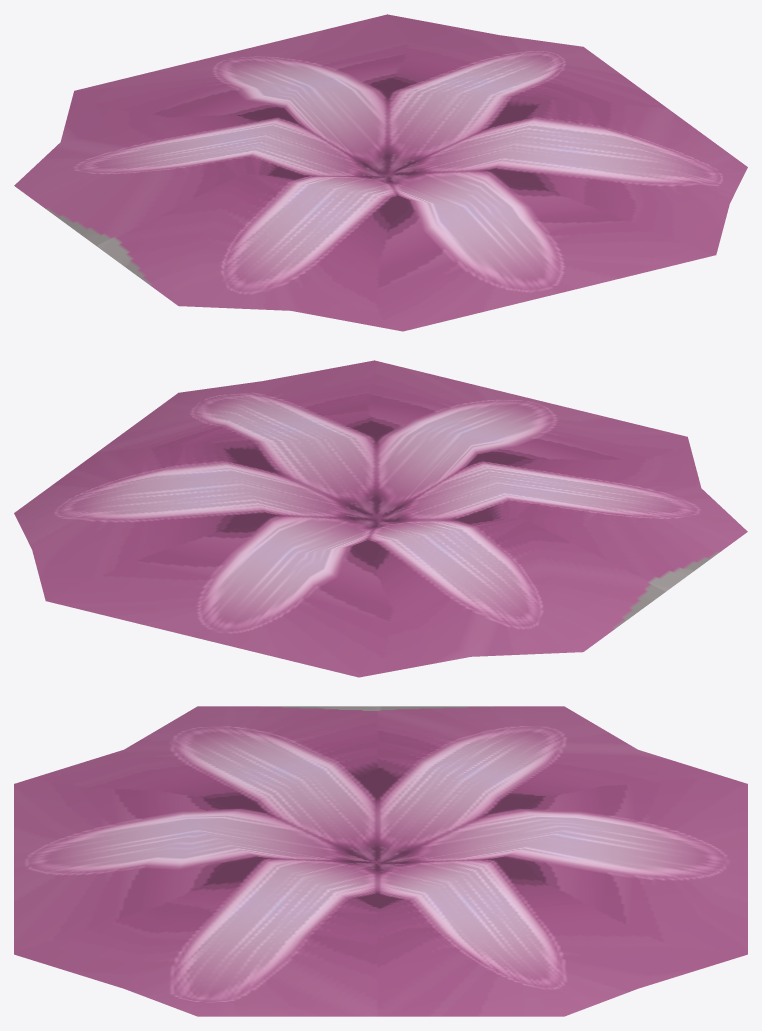
Rendered from Flower06_Art.fbx.
3 renders of one model, top to bottom at view 1: azimuth 30°, elevation 25°; view 2: azimuth 150°, elevation 25°; view 3: azimuth 270°, elevation 25°, orthographic. The views are drawn at different scales.
Parts seen in each view (by area): view 1: Flower06_Art; view 2: Flower06_Art; view 3: Flower06_Art.
Boxes of the visible parts, x1,y1,x2,y2 form: Flower06_Art: (14,14,747,331); Flower06_Art: (14,360,747,677); Flower06_Art: (14,706,747,1016).
Size of the model in its own units: 0.6029 by 0.0375 by 0.6029.
